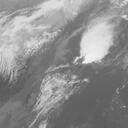cyclone: (80, 23, 116, 64)
